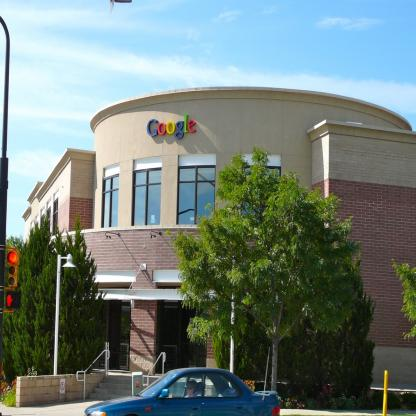Car: (83, 367, 282, 416)
